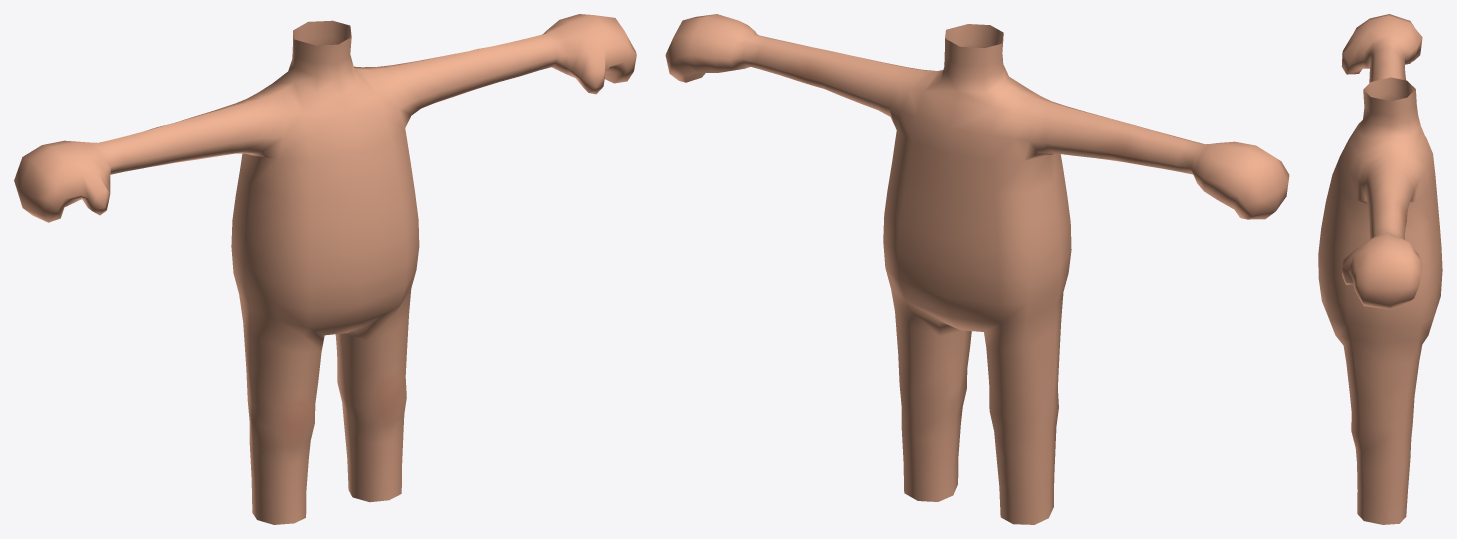
The model's file is Body_Yellow_3.fbx.
3 renders of one model, left to right at view 1: azimuth 30°, elevation 25°; view 2: azimuth 150°, elevation 25°; view 3: azimuth 270°, elevation 25°, orthographic. The views are drawn at different scales.
Parts seen in each view (by area): view 1: Body_Yellow_3; view 2: Body_Yellow_3; view 3: Body_Yellow_3.
Part boxes in pixels (x1,y1,x2,y2): Body_Yellow_3: [14, 14, 636, 524]; Body_Yellow_3: [665, 14, 1289, 524]; Body_Yellow_3: [1318, 14, 1442, 524].
Size of the model in its own units: 130 by 95.87 by 26.46.
